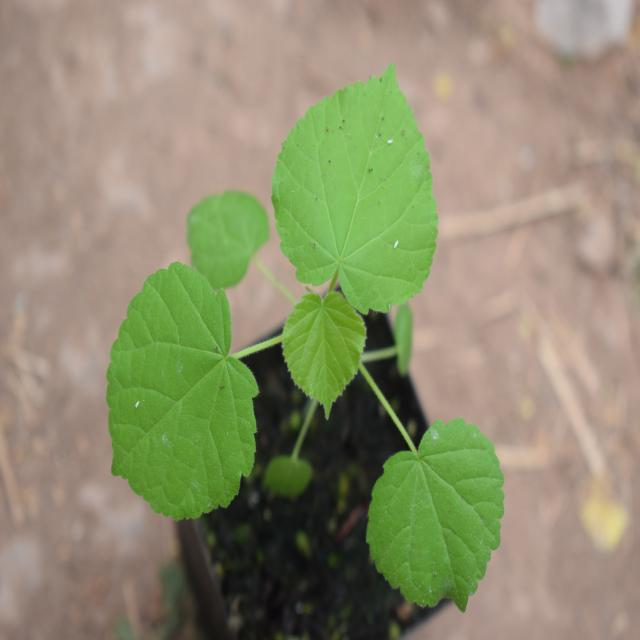abutilon theophrasti: (92, 59, 514, 606)
